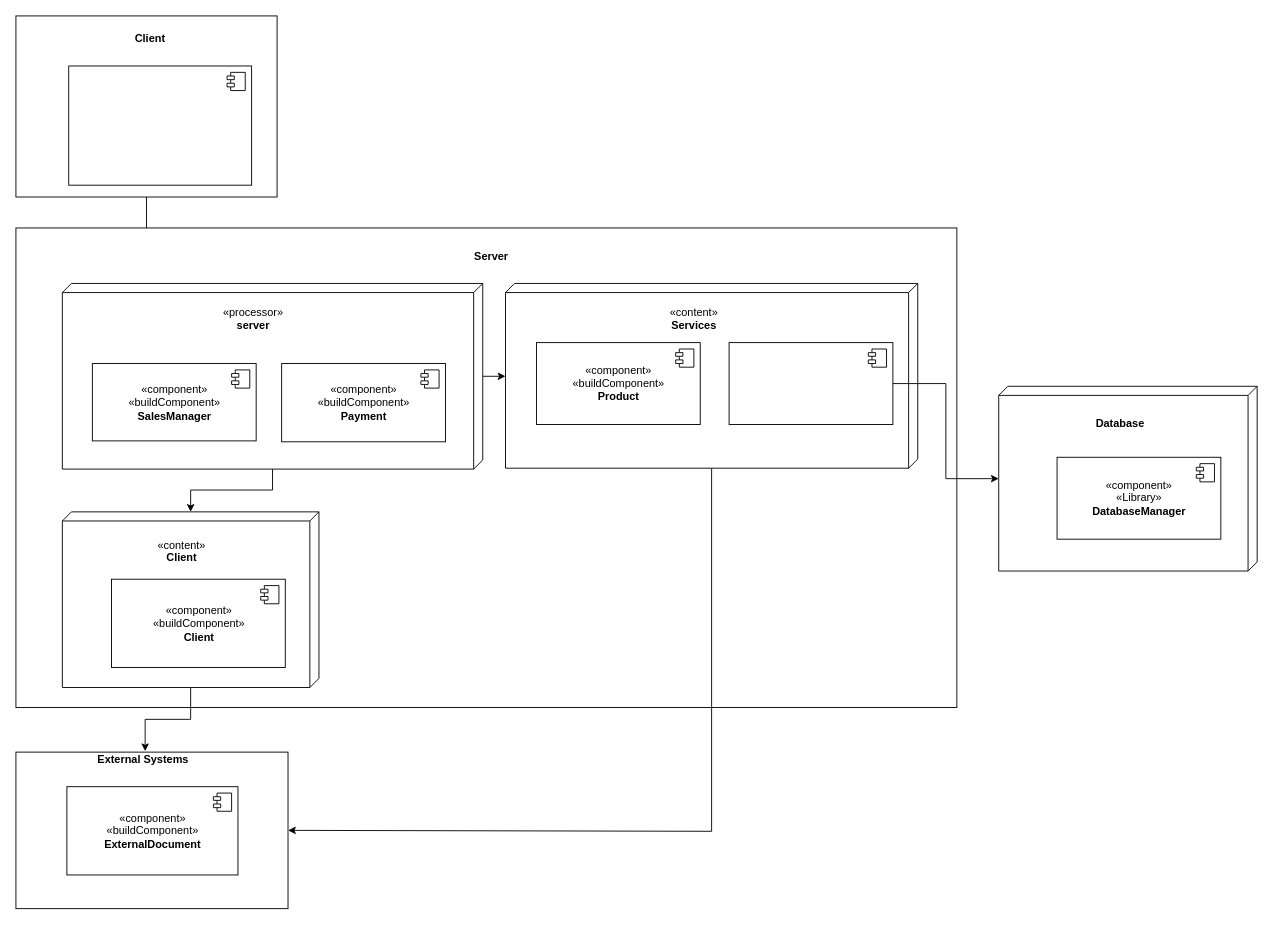
Some shapes in this 1273 by 925 pixel diagram are drawn without their labels. The shapes that lost their labels are listed below. From the top down, each one's centre as x and y in pixels, then its label:
At point 160,125: "«component» «buildComponent» UserInterfaceManager".
At point 810,383: "«component» «buildComponent» Price".
